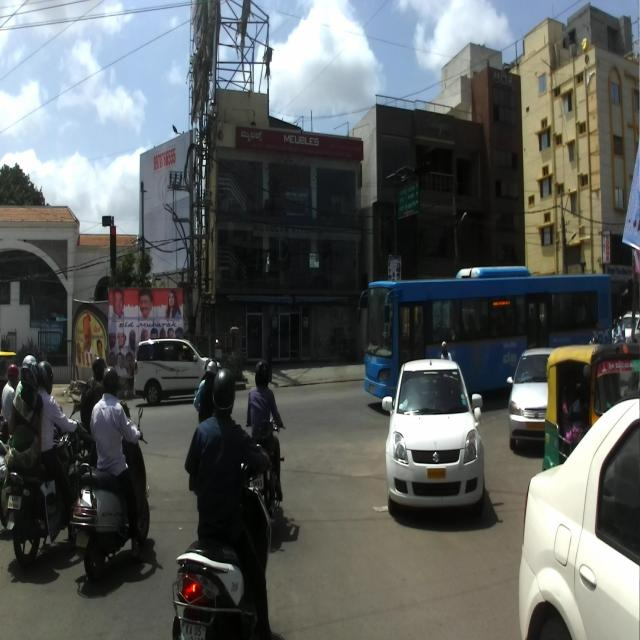bus: (357, 263, 622, 415)
car: (380, 356, 486, 521)
motorcycle: (2, 399, 82, 568)
scooter: (171, 451, 274, 638), (69, 403, 150, 590)
